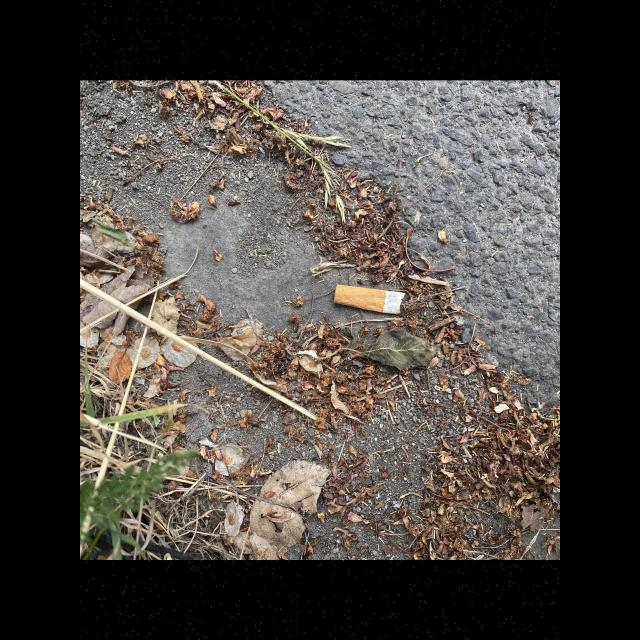cigarette: (333, 284, 406, 315)
